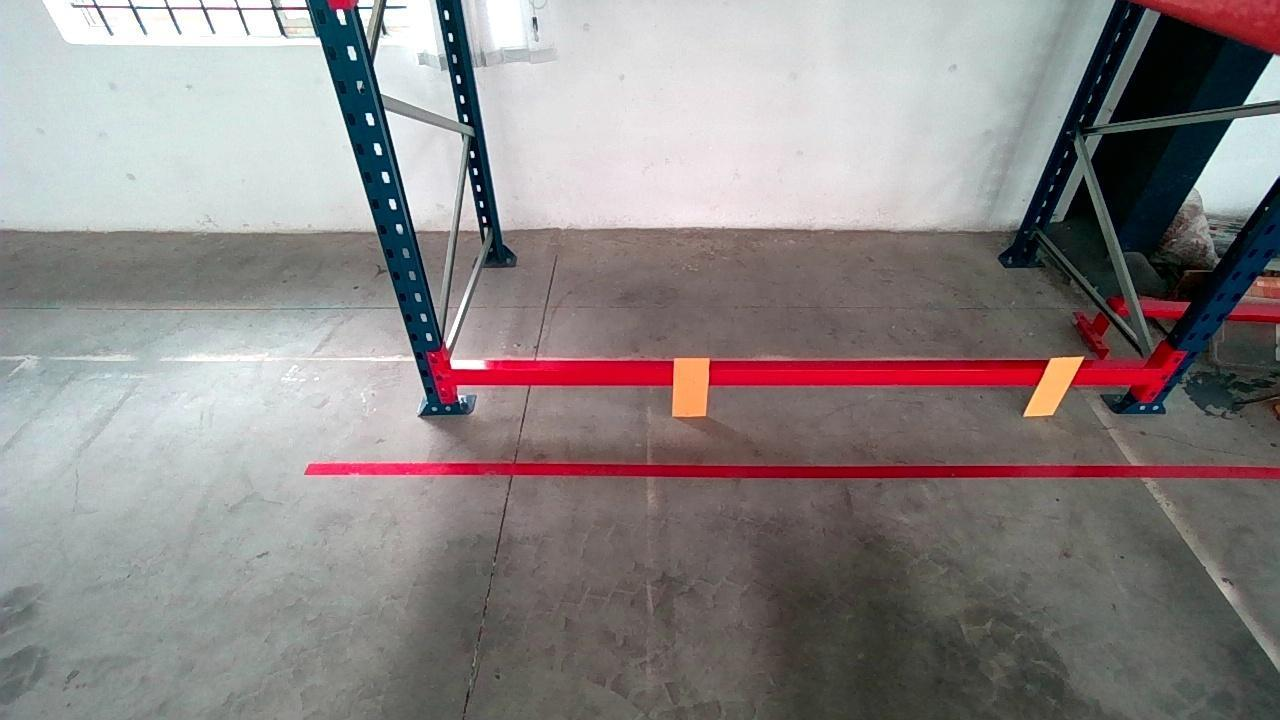h_rack: (453, 367, 1157, 386)
orange_strip: (1024, 356, 1086, 415), (674, 356, 710, 415)
red_line: (305, 461, 1280, 479)
